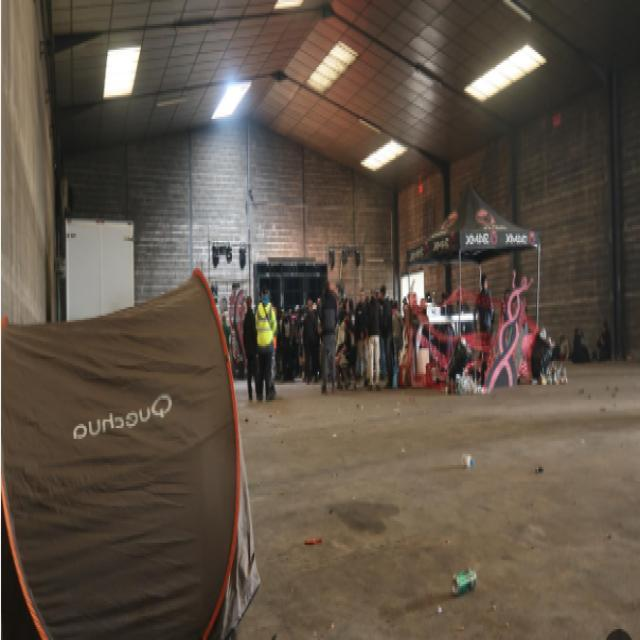boots: (257, 390, 277, 402)
vest: (254, 300, 278, 348)
